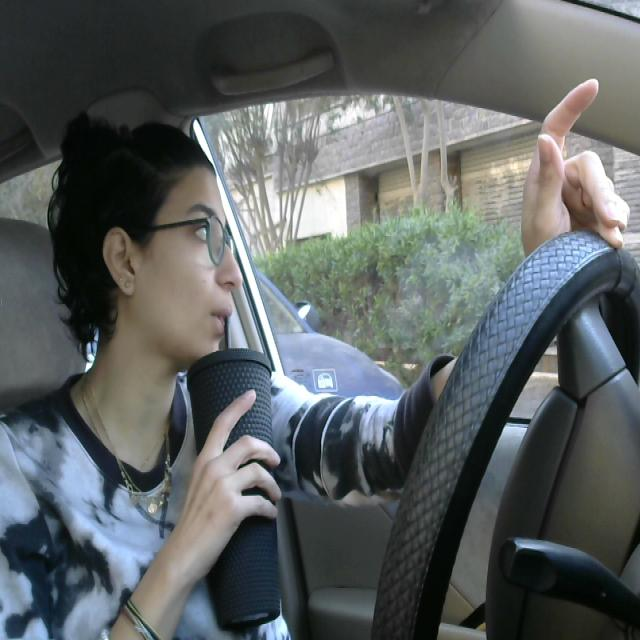drinking: (182, 300, 316, 632)
